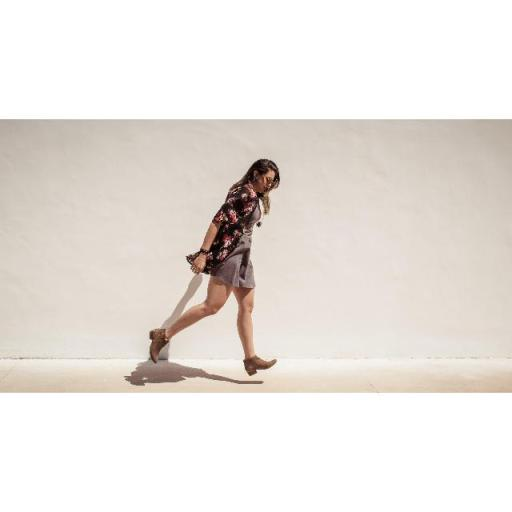Running: (146, 154, 294, 380)
